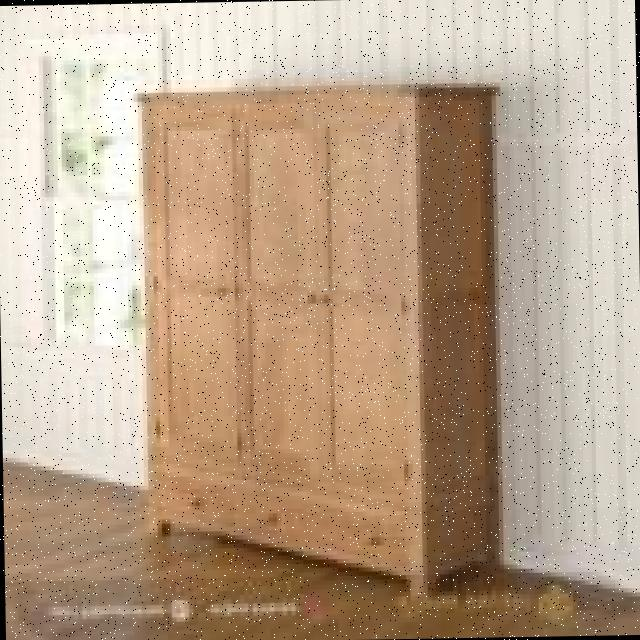Closet: (129, 80, 506, 605)
